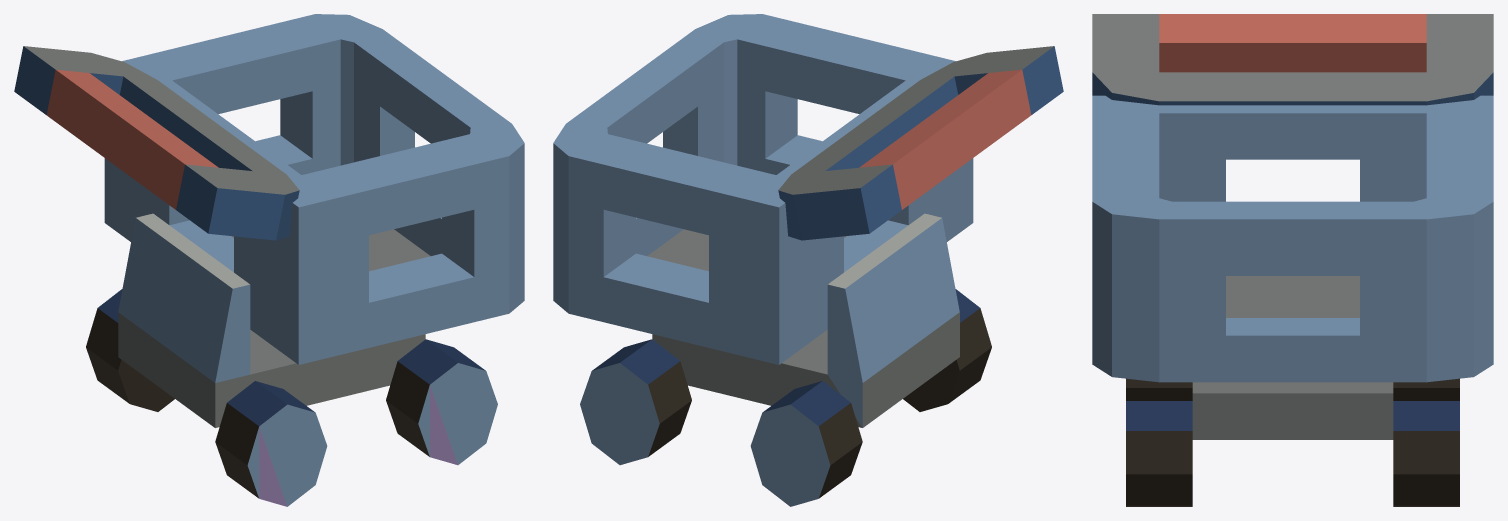
The model's file is shopping-cart.glb.
The picture shows the model from 3 angles, left to right: view 1: azimuth 30°, elevation 25°; view 2: azimuth 150°, elevation 25°; view 3: azimuth 270°, elevation 25°; orthographic projection. The views are drawn at different scales.
Bounding box in the file's own units: 1 × 1 × 1.
